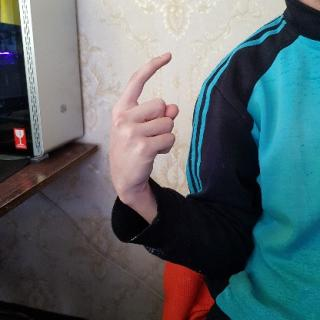RAA: (98, 44, 190, 206)
